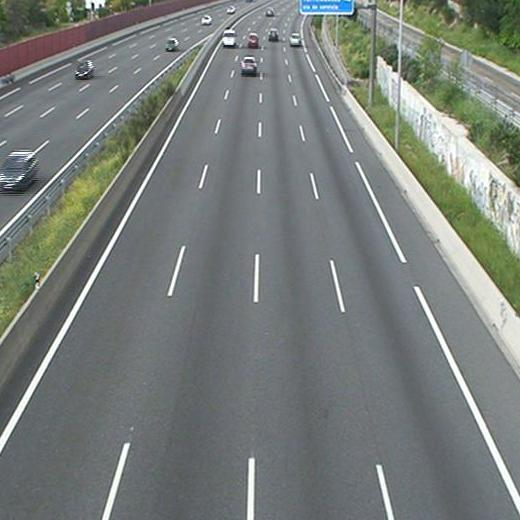car: (241, 57, 257, 72), (289, 33, 301, 45), (247, 35, 259, 47), (268, 29, 279, 40), (264, 8, 275, 17)
van: (223, 30, 236, 46)
